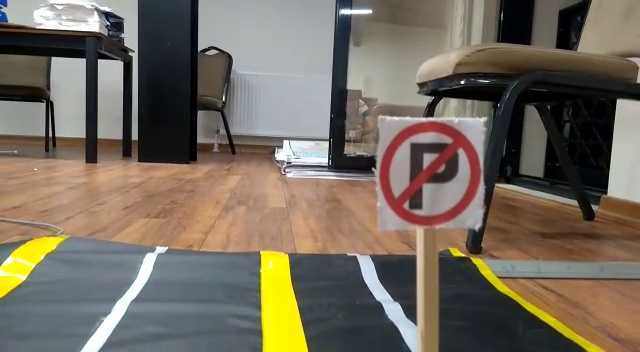park_yapilmaz: (381, 115, 480, 227)
